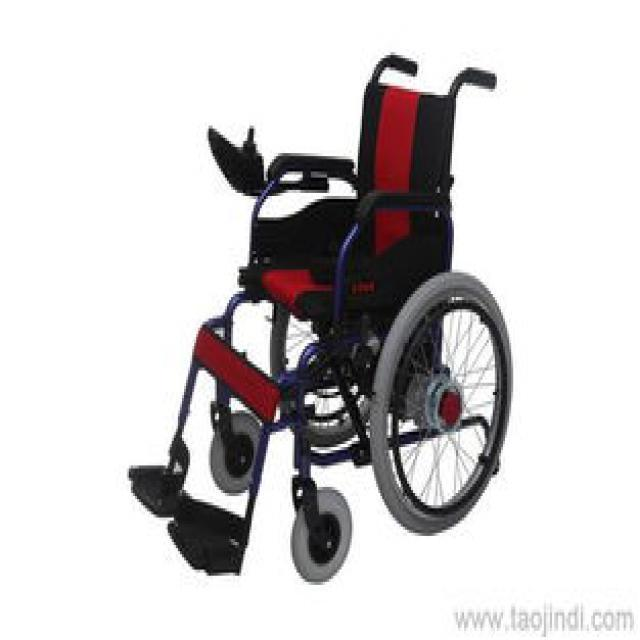wheelchair: (120, 46, 520, 594)
